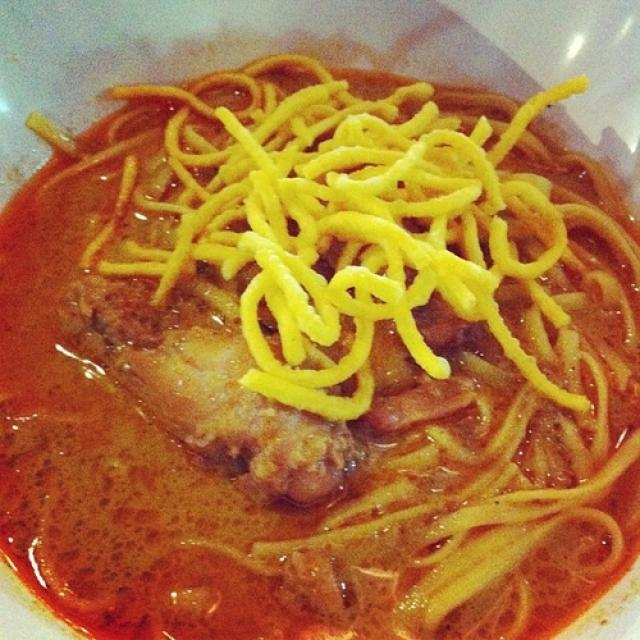面条主食: (13, 42, 621, 634)
